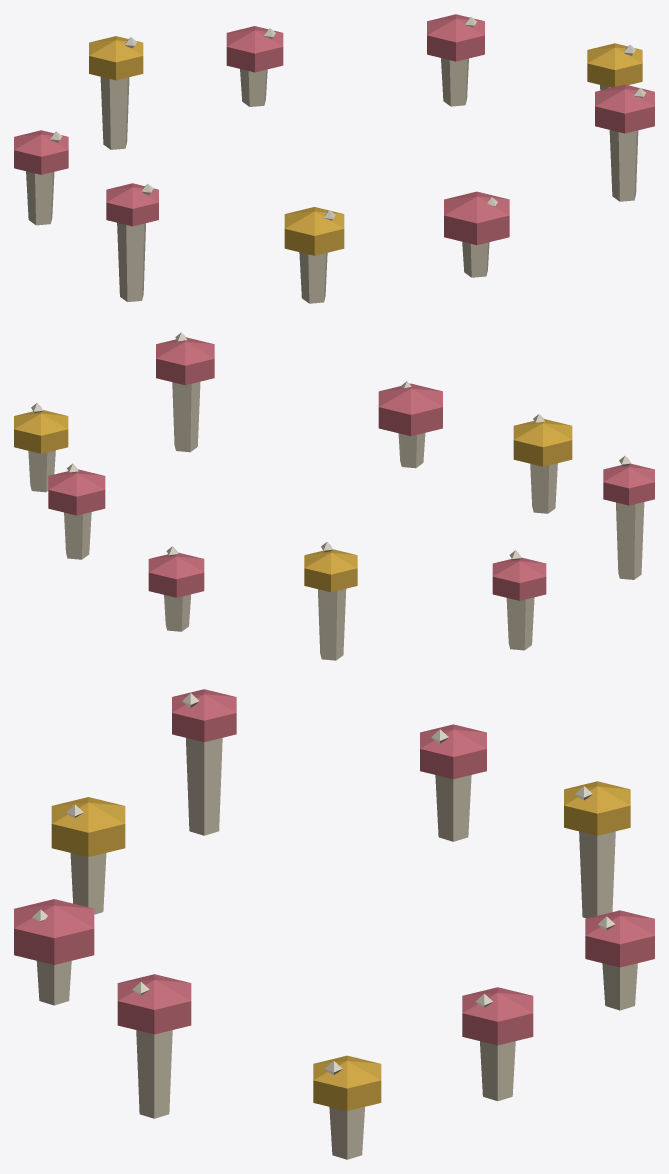
The model's file is mushroom_ring.glb.
3 views of the same model, one above another, from view 1: azimuth 30°, elevation 25°; view 2: azimuth 150°, elevation 25°; view 3: azimuth 270°, elevation 25° (orthographic). The views are drawn at different scales.
Parts seen in each view (by area): view 1: mushroom_ring; view 2: mushroom_ring; view 3: mushroom_ring.
Boxes of the visible parts, x1=… form: mushroom_ring: x1=14, y1=14, x2=654, y2=303; mushroom_ring: x1=14, y1=332, x2=654, y2=660; mushroom_ring: x1=14, y1=689, x2=654, y2=1159.
Size of the model in its own units: 1.88 by 0.3497 by 1.43.
